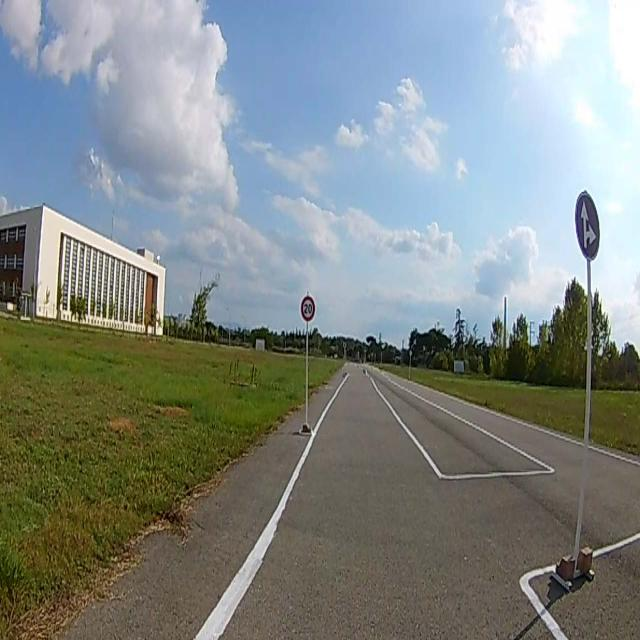20: (301, 298, 315, 321)
ilerisag: (575, 193, 600, 259)
